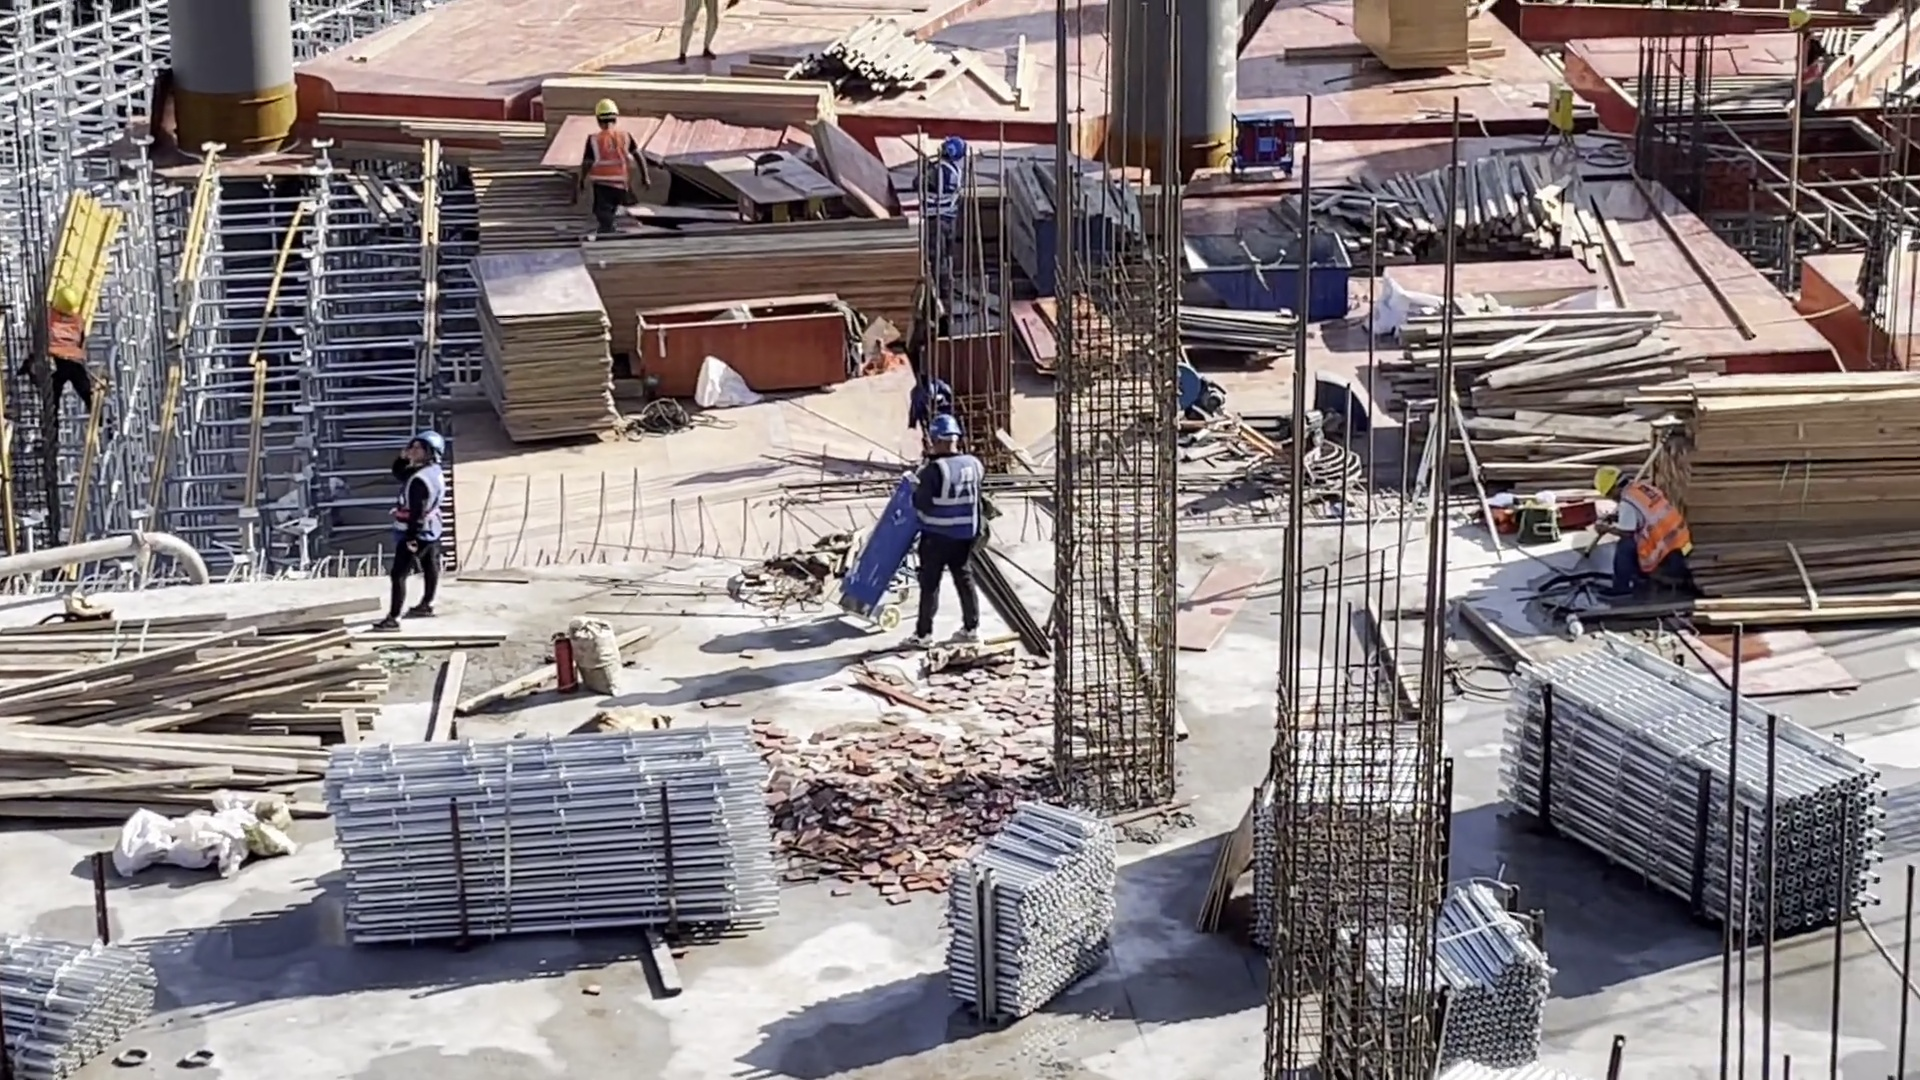board: (470, 249, 622, 444), (544, 112, 807, 172), (1351, 2, 1477, 69)
helmet: (403, 430, 446, 458), (931, 410, 962, 443), (51, 286, 80, 316), (937, 132, 970, 157), (1596, 464, 1621, 495), (595, 99, 621, 119)
hopper: (1180, 231, 1349, 317)
person: (917, 406, 988, 649), (1595, 464, 1696, 606), (388, 428, 455, 634), (917, 130, 977, 312), (32, 283, 106, 420), (581, 100, 651, 219), (1786, 16, 1830, 109), (675, 4, 733, 75)
scaffold: (1499, 629, 1887, 945), (1254, 709, 1579, 1080), (313, 722, 788, 941), (948, 796, 1115, 1018), (6, 909, 157, 1074)
vest: (1624, 486, 1691, 580), (922, 458, 983, 536), (391, 469, 450, 546), (37, 308, 91, 365), (587, 131, 636, 191), (918, 162, 959, 214)
wood: (2, 604, 388, 815), (1633, 368, 1920, 641), (1378, 298, 1683, 496), (1292, 144, 1628, 267), (588, 229, 921, 298), (535, 74, 832, 127)
